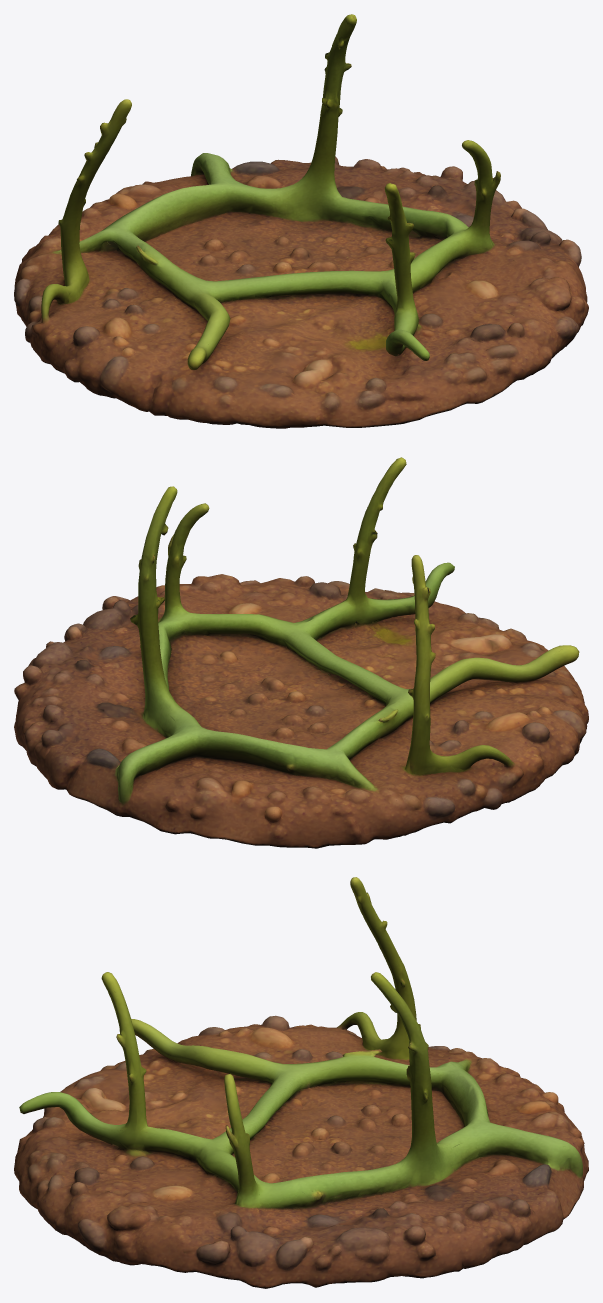
3 renders of one model, top to bottom at view 1: azimuth 30°, elevation 25°; view 2: azimuth 150°, elevation 25°; view 3: azimuth 270°, elevation 25°, orthographic.
Parts seen in each view (by area): view 1: world; view 2: world; view 3: world.
Part boxes in pixels (x1=…): world: x1=14, y1=14, x2=588, y2=428; world: x1=14, y1=457, x2=588, y2=848; world: x1=14, y1=877, x2=588, y2=1288.
Bounding box in the file's own units: 0.2566 × 0.1226 × 0.258.
1 material, 1 textured.
